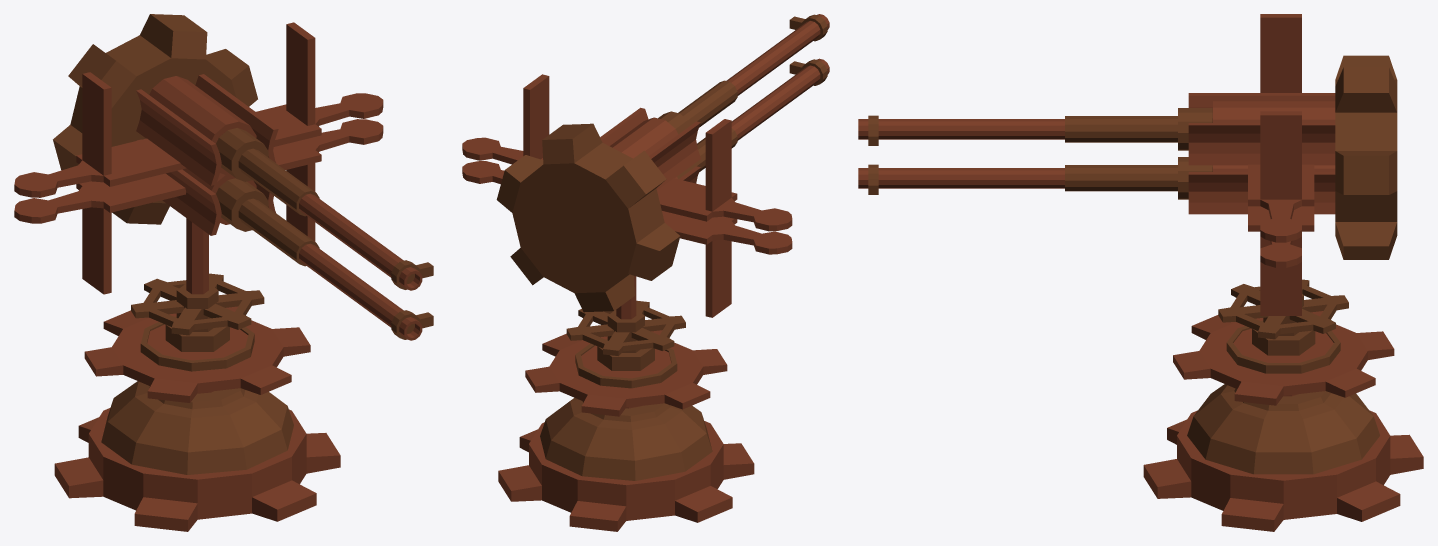
File: Gun_6.glb
3 renders of one model, left to right at view 1: azimuth 30°, elevation 25°; view 2: azimuth 150°, elevation 25°; view 3: azimuth 270°, elevation 25°, orthographic. The views are drawn at different scales.
Parts seen in each view (by area): view 1: Gun_6_Gun, Gun_6_Base, Gun_6_Mid; view 2: Gun_6_Gun, Gun_6_Base, Gun_6_Mid; view 3: Gun_6_Gun, Gun_6_Base, Gun_6_Mid.
Part boxes in pixels (left/top/right/bottom): Gun_6_Gun: left=14, top=14, right=433, bottom=340; Gun_6_Base: left=54, top=316, right=340, bottom=531; Gun_6_Mid: left=84, top=218, right=310, bottom=402; Gun_6_Gun: left=462, top=14, right=829, bottom=317; Gun_6_Base: left=498, top=343, right=754, bottom=531; Gun_6_Mid: left=525, top=276, right=727, bottom=416; Gun_6_Gun: left=858, top=14, right=1397, bottom=315; Gun_6_Base: left=1143, top=320, right=1423, bottom=531; Gun_6_Mid: left=1173, top=279, right=1394, bottom=405.
Size of the model in its own units: 2.02 by 2.23 by 2.78.
